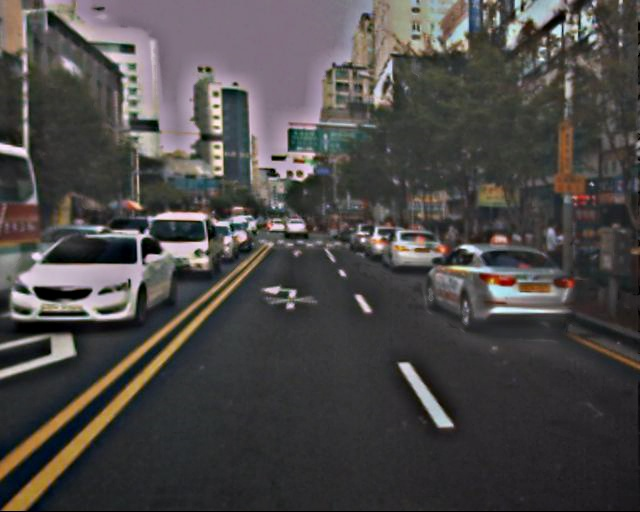person: (537, 218, 566, 289)
